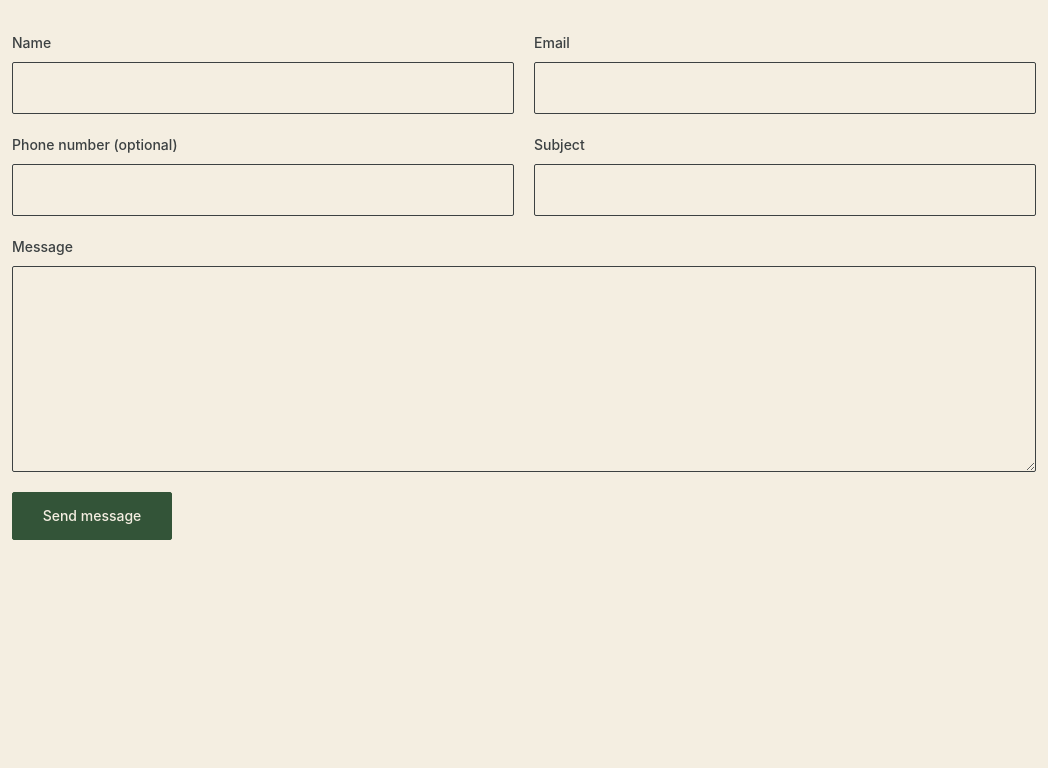
Test: customer storefront refinements › associates server validation with fields and offers a useful failure message
Type "Ada Okafor" into the field labelled "Name" at point(263, 88), box [12,62,514,114]
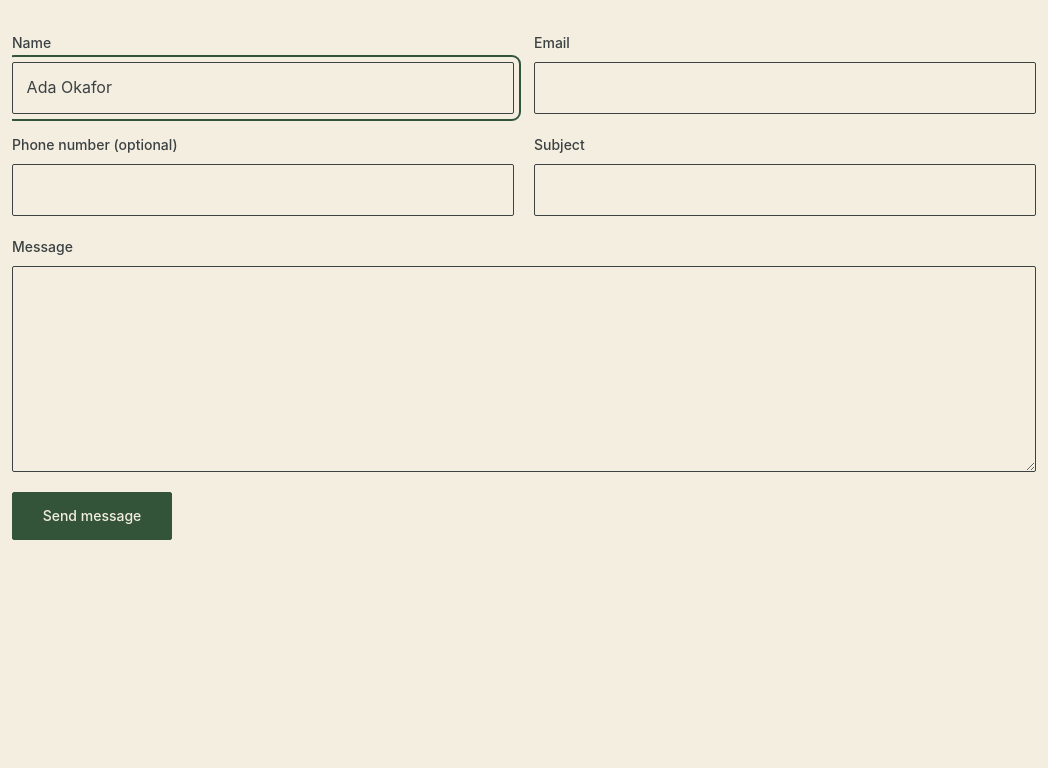
Type "not-an-email" into the field labelled "Email" at point(785, 88), box [534,62,1036,114]
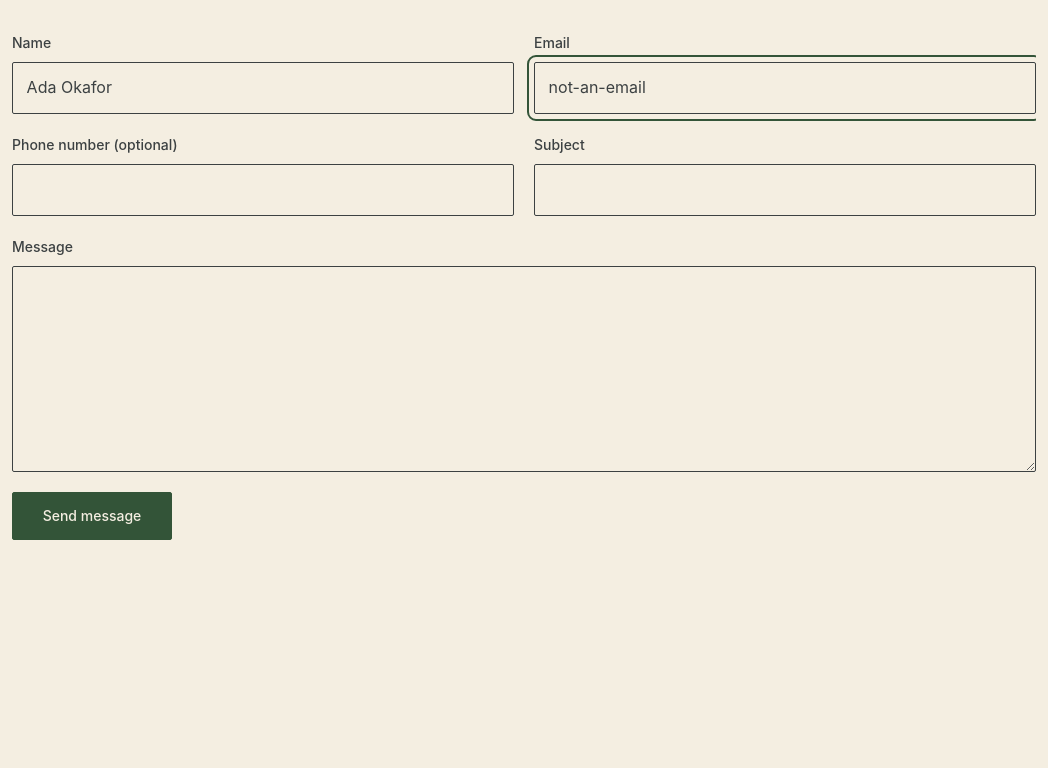
Type "A basket question" into the field labelled "Subject" at point(785, 190), box [534,164,1036,216]
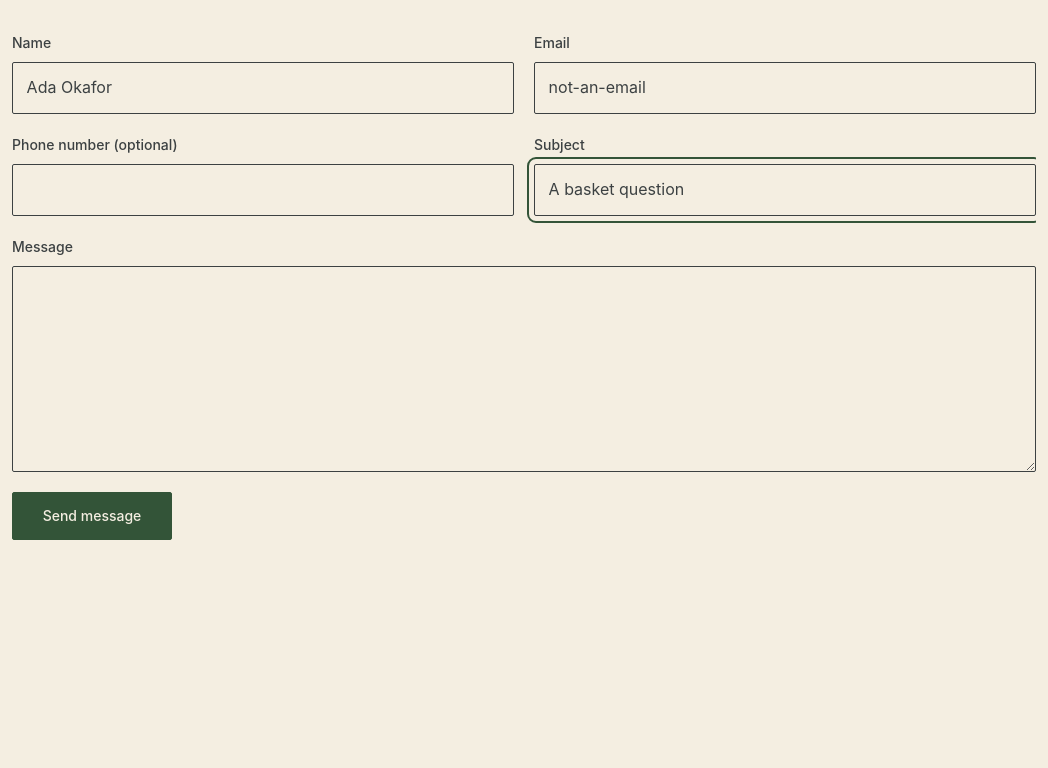
Type "Can you help me find this basket?" into the text box labelled "Message" at point(524, 369), box [12,266,1036,472]
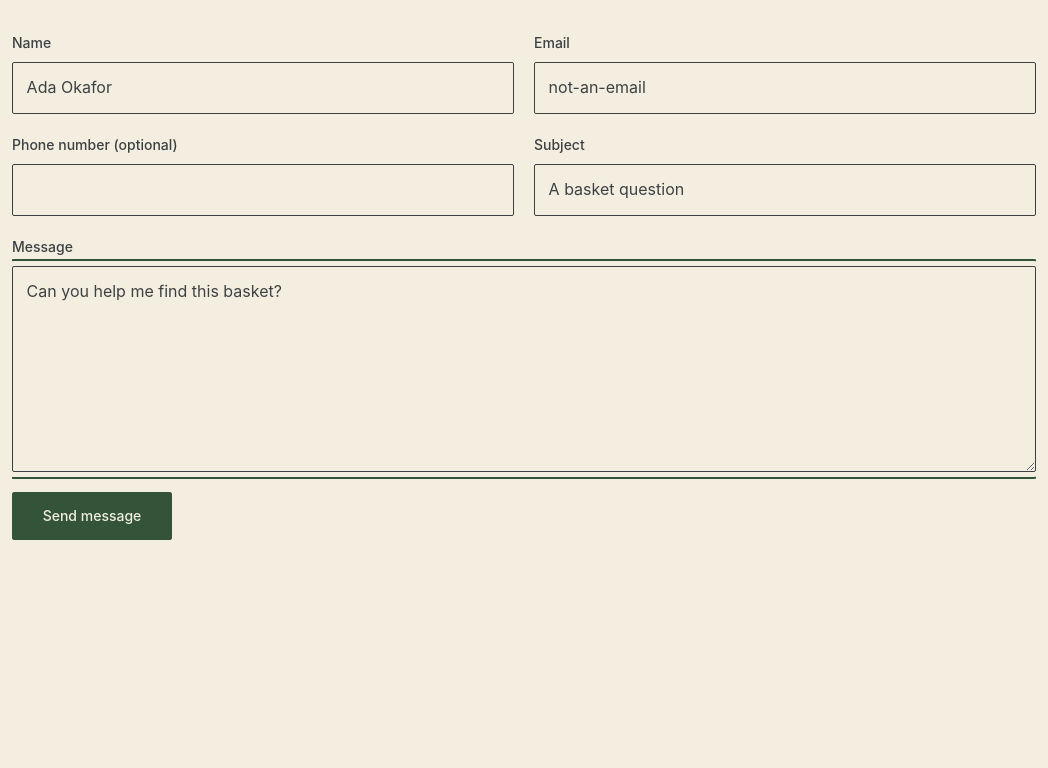
Click the button "Send message" at point(92, 516), box [12,492,172,540]
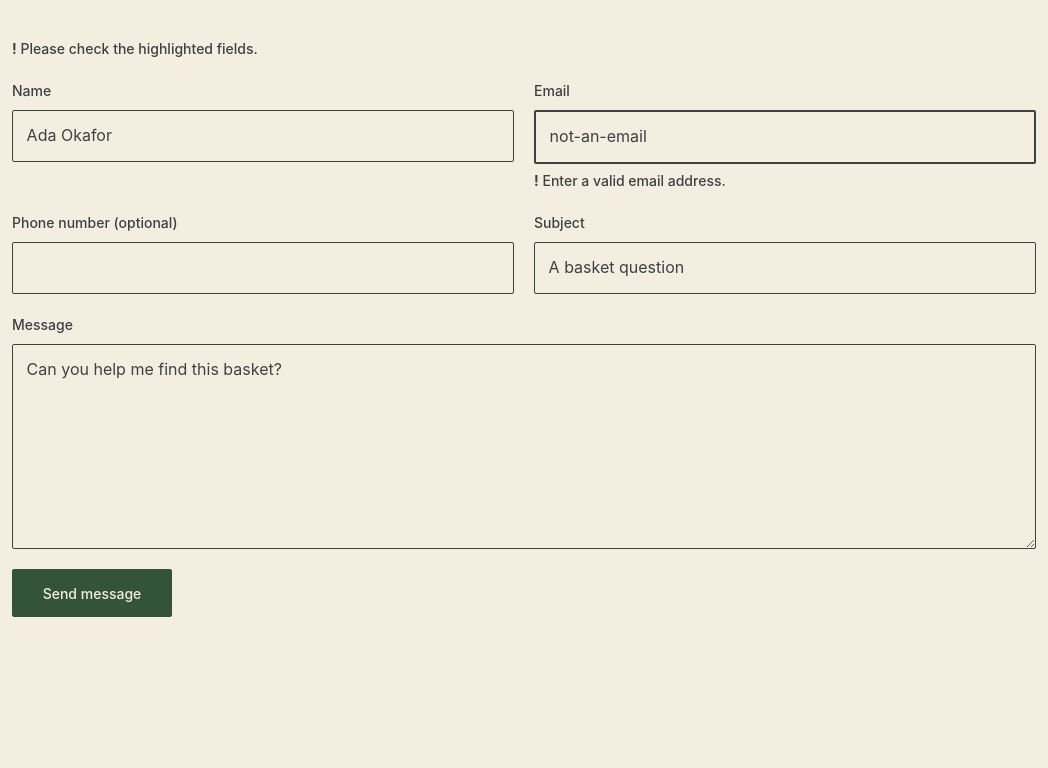
Expected: the text "Enter a valid email address." is shown, [542,172,726,189]
Expected: the text "Please check the highlighted fields." is shown, [20,40,258,57]
